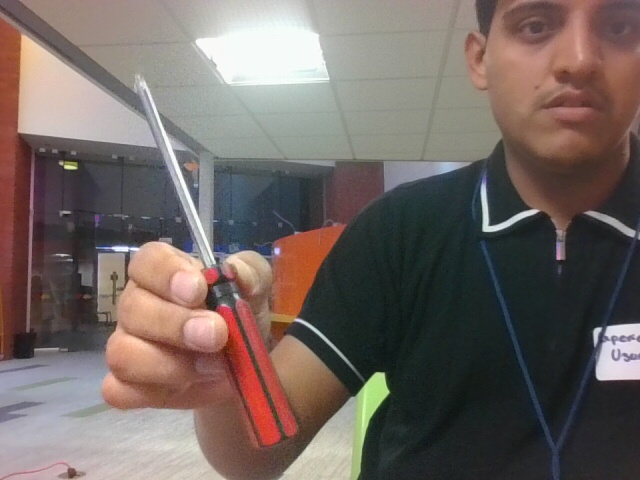destornillador: (133, 77, 298, 447)
